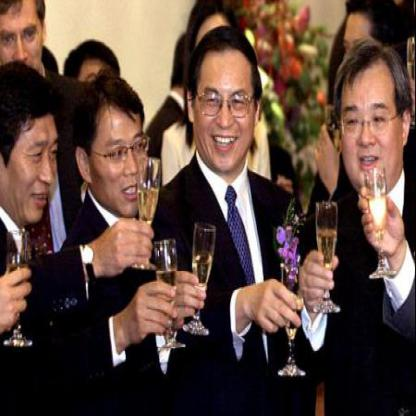face: (339, 45, 404, 194), (195, 36, 259, 174), (1, 89, 63, 226), (90, 89, 151, 222), (1, 1, 45, 93)
